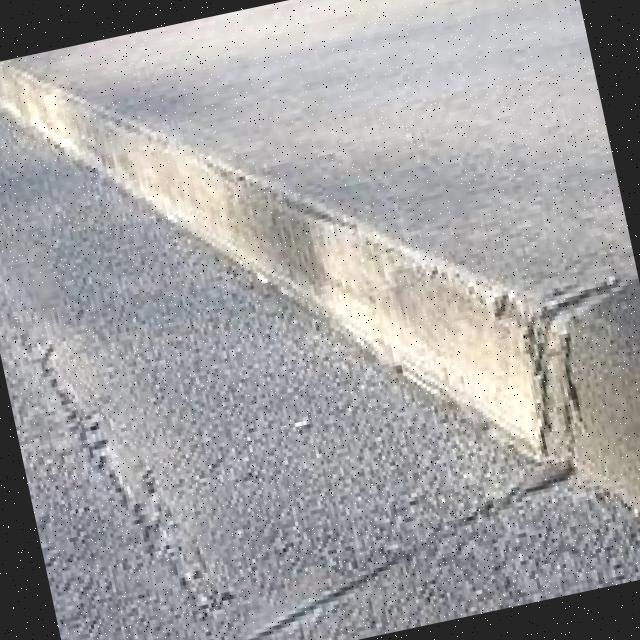curb: (320, 151, 640, 614), (119, 83, 374, 336), (1, 39, 150, 218)
